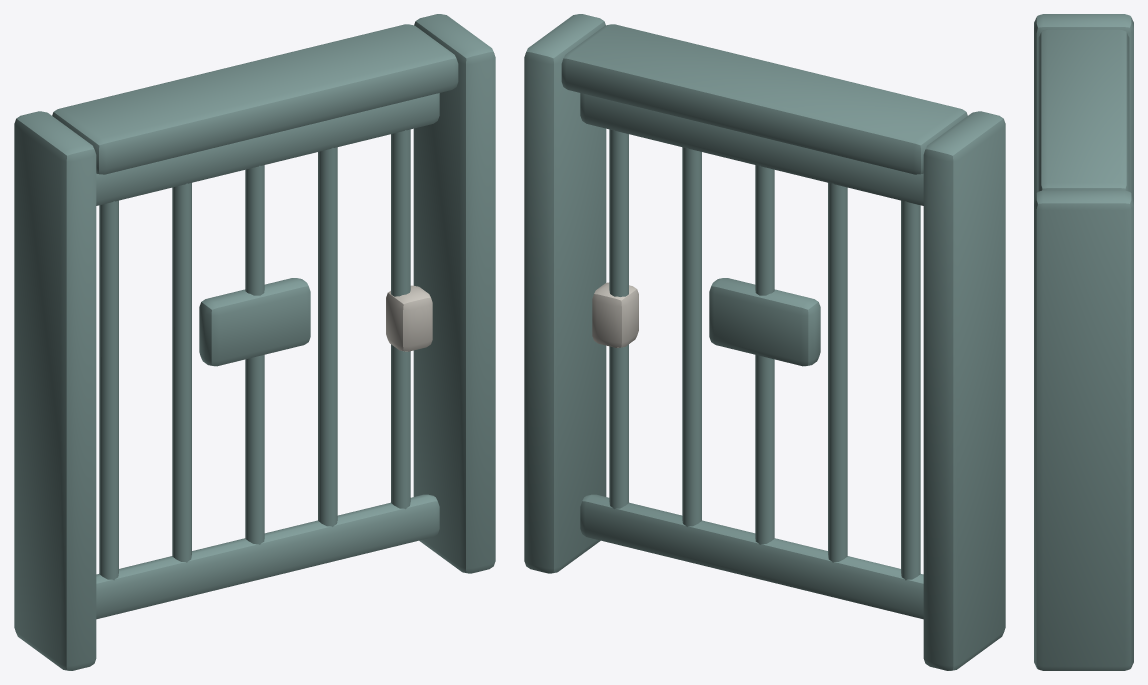
The model's file is cell_door.glb.
The picture shows the model from 3 angles, left to right: view 1: azimuth 30°, elevation 25°; view 2: azimuth 150°, elevation 25°; view 3: azimuth 270°, elevation 25°; orthographic projection. The views are drawn at different scales.
Parts seen in each view (by area): view 1: paint, steel; view 2: paint, steel; view 3: paint.
Boxes of the visible parts, x1,y1,x2,y2 form: paint: (14, 14, 495, 670); steel: (386, 285, 432, 351); paint: (524, 14, 1005, 670); steel: (592, 282, 638, 347); paint: (1034, 14, 1133, 670).
Size of the model in its own units: 1 by 1.15 by 0.22.
